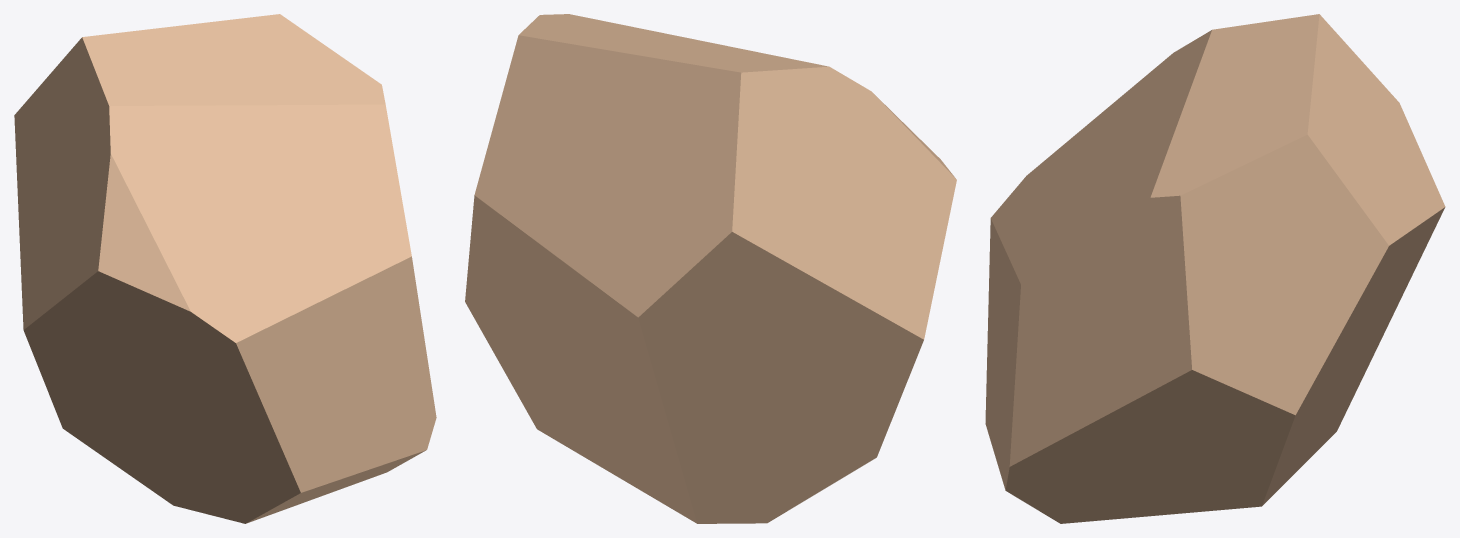
File: Rock3.fbx
3 renders of one model, left to right at view 1: azimuth 30°, elevation 25°; view 2: azimuth 150°, elevation 25°; view 3: azimuth 270°, elevation 25°, orthographic. The views are drawn at different scales.
Parts seen in each view (by area): view 1: Sphere; view 2: Sphere; view 3: Sphere.
Part boxes in pixels (x1,y1,x2,y2): Sphere: [14, 14, 436, 523]; Sphere: [465, 14, 956, 523]; Sphere: [985, 14, 1445, 523].
Bounding box in the file's own units: 164 × 175 × 168.
